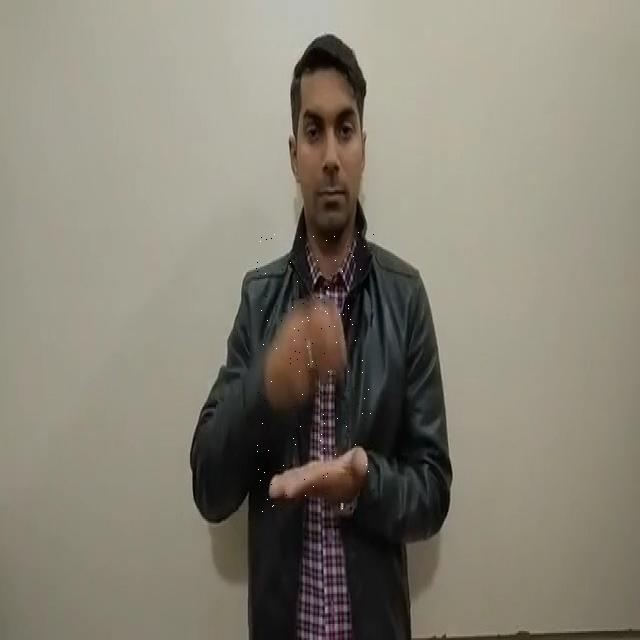cup: (256, 230, 374, 516)
